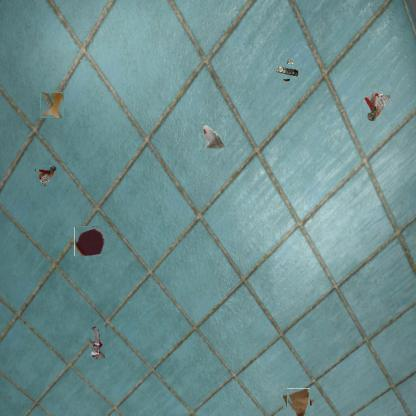dirty: (362, 90, 392, 122), (284, 389, 312, 416), (199, 122, 225, 150), (89, 324, 105, 360), (34, 166, 58, 189), (277, 60, 299, 82)
liquid: (74, 226, 105, 256), (40, 92, 64, 118)
